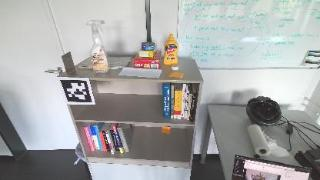book-spine: (112, 125, 123, 154), (83, 126, 95, 152), (117, 127, 129, 153), (162, 84, 170, 118), (173, 91, 182, 119), (90, 125, 100, 150), (183, 85, 190, 119), (94, 125, 103, 151), (110, 129, 120, 152), (105, 130, 114, 154), (102, 130, 111, 153), (190, 92, 196, 122), (181, 84, 186, 117), (186, 93, 192, 120), (99, 132, 107, 152), (170, 85, 174, 119)
